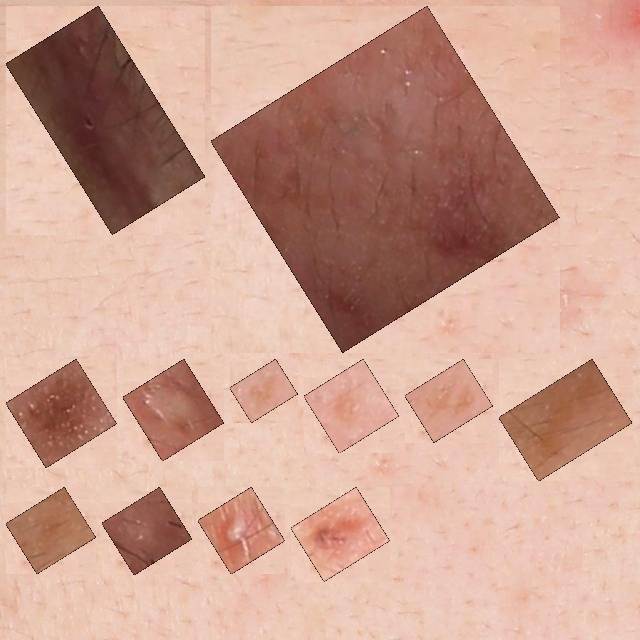hypertrophic_scar: (222, 17, 548, 341), (134, 370, 213, 450), (113, 498, 181, 564)
melasma: (510, 370, 621, 470), (315, 370, 388, 442), (17, 498, 85, 563), (416, 370, 482, 431), (241, 370, 286, 411)
nevus: (17, 370, 106, 456), (302, 498, 379, 570)
pustule: (209, 498, 274, 563)
